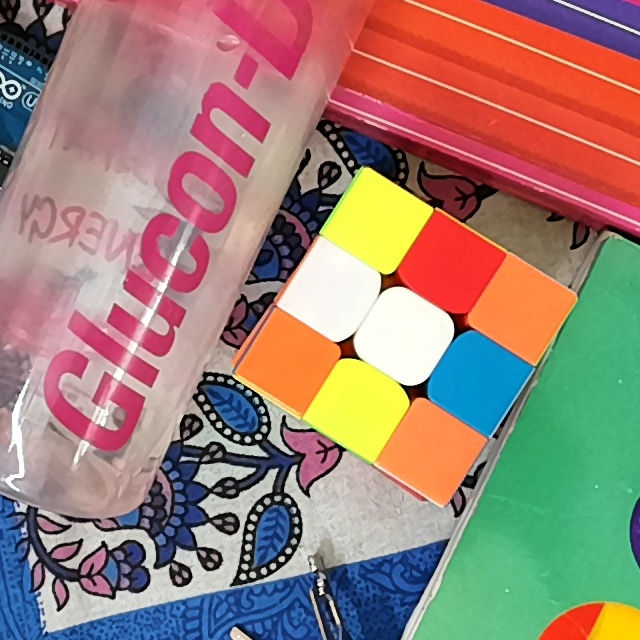tile: (419, 240, 480, 294), (492, 283, 552, 335), (259, 335, 316, 388), (349, 197, 404, 251), (451, 357, 506, 411), (333, 381, 387, 435), (377, 314, 433, 366), (405, 425, 458, 479), (305, 266, 360, 316)
